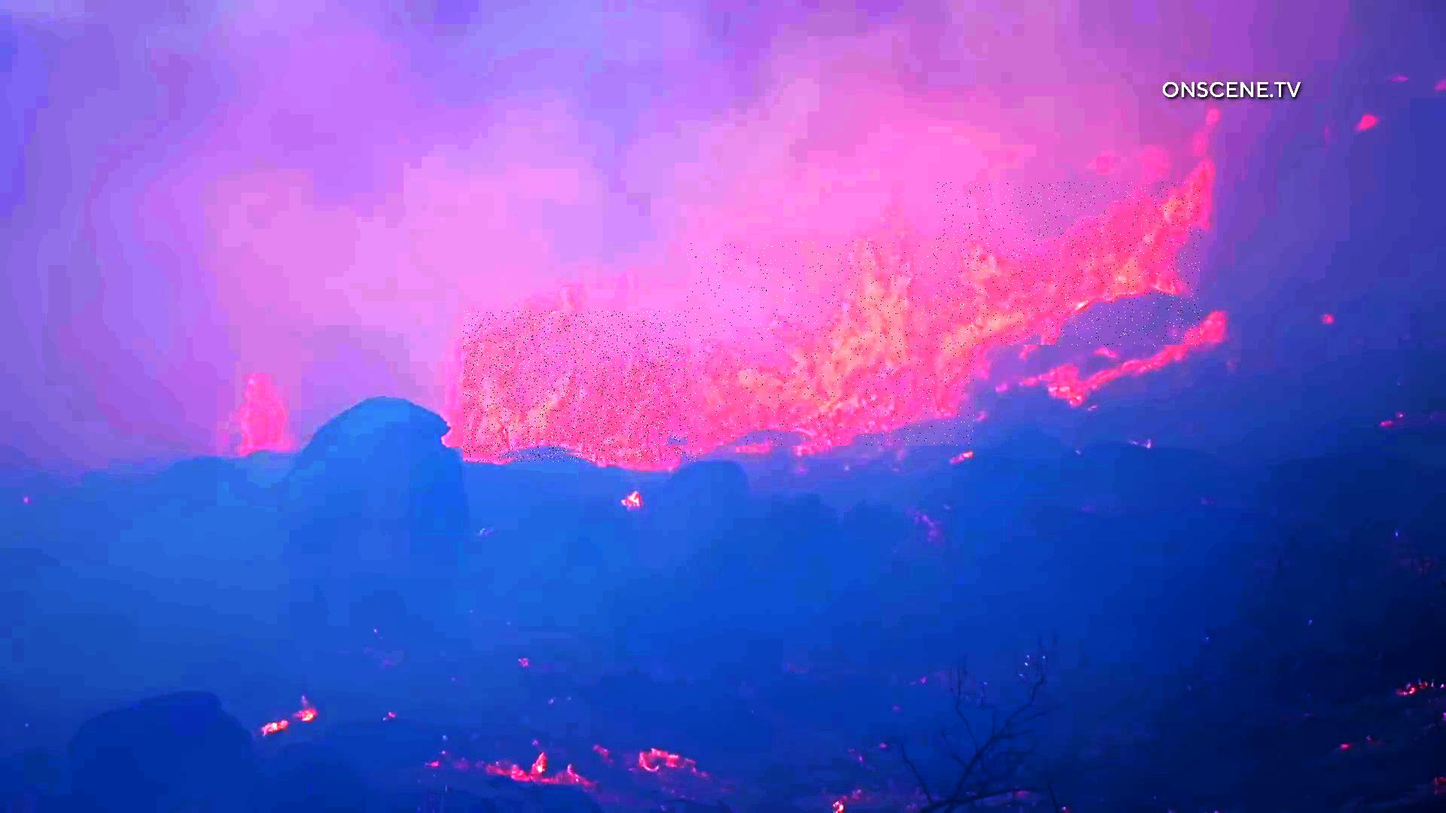fire: (687, 241, 976, 446), (936, 183, 1202, 347), (463, 311, 703, 462)
